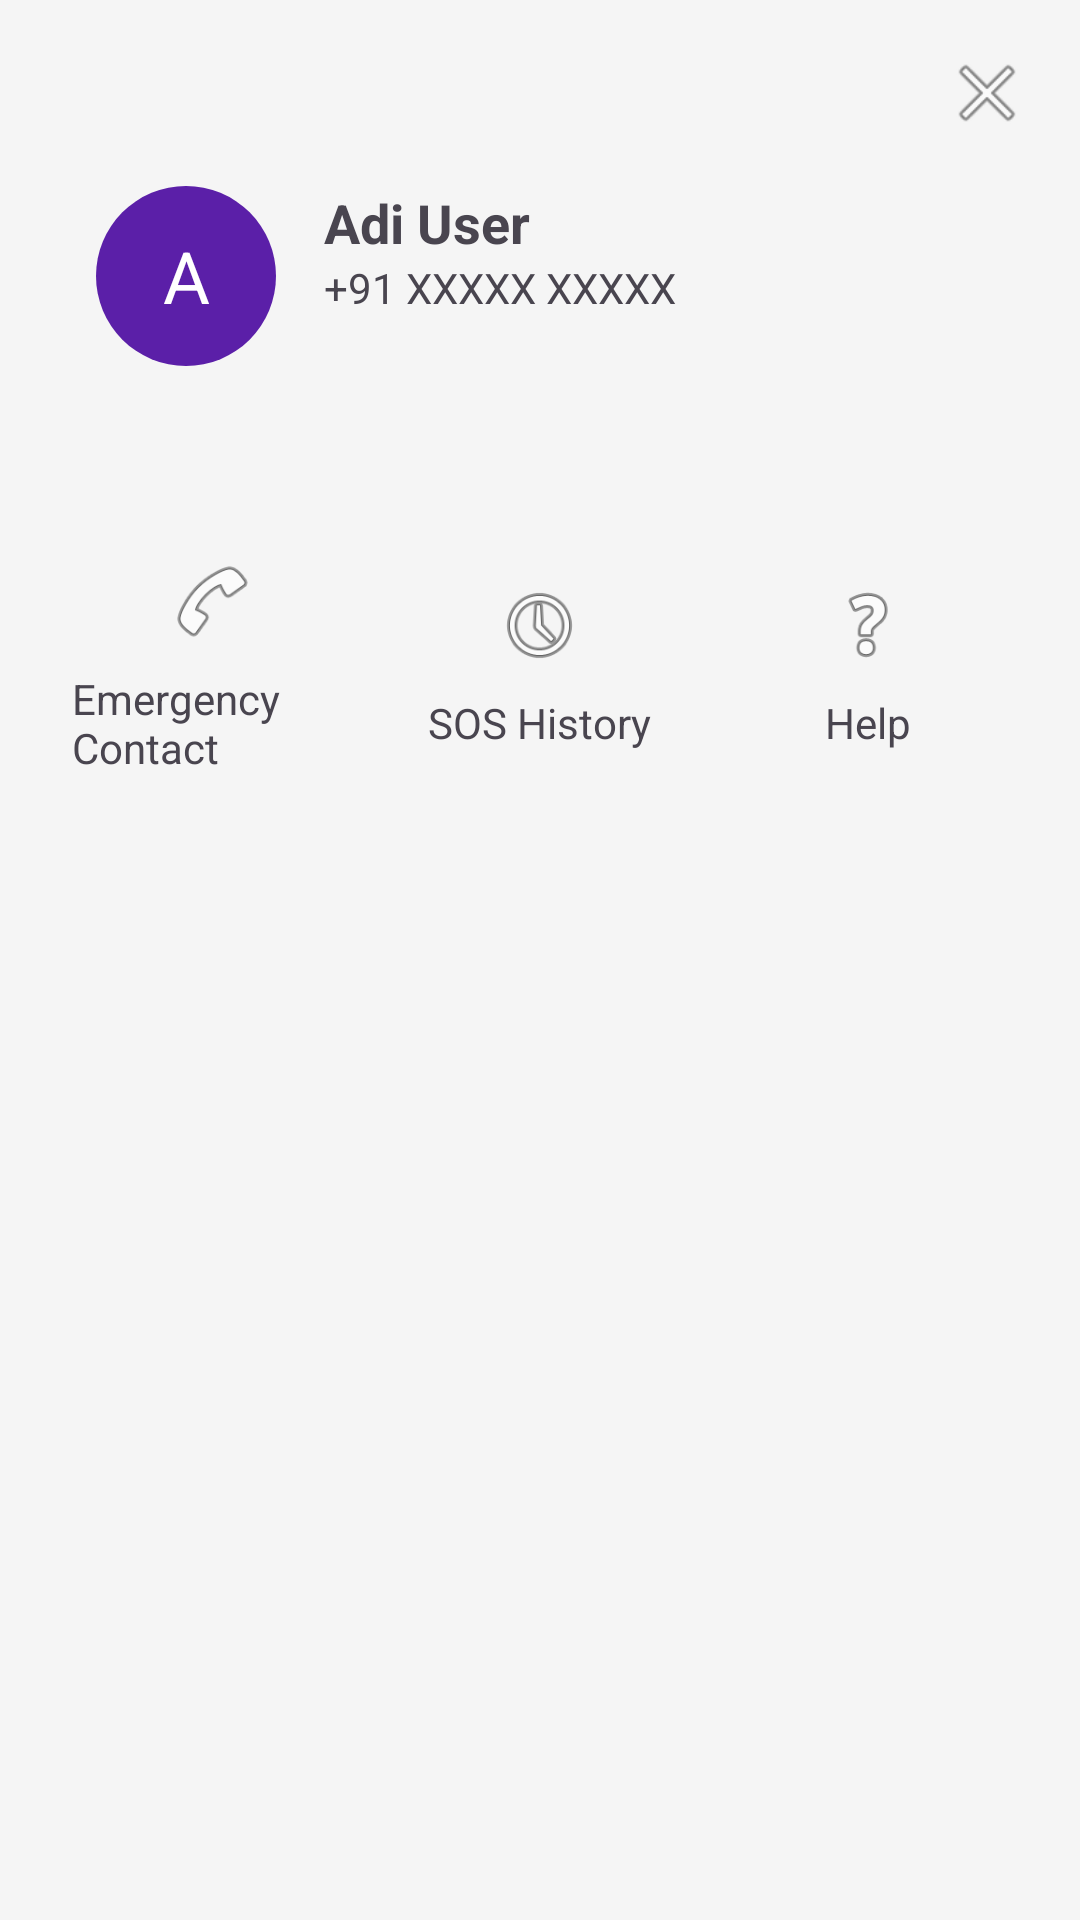

Icon click points for this 1080x1920 phone screenshot, format (x,y):
Close: (987,93)
recent history: (539,625)
